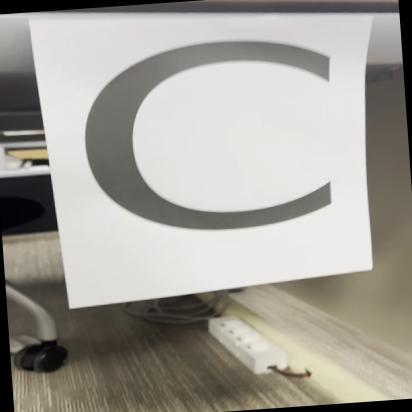seat: (33, 3, 397, 310)
